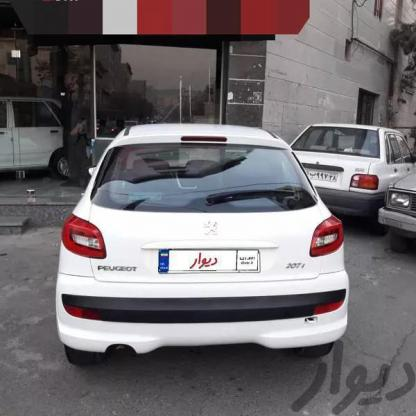Car: (57, 115, 343, 373), (279, 111, 407, 237), (0, 101, 71, 216), (392, 161, 416, 280)
